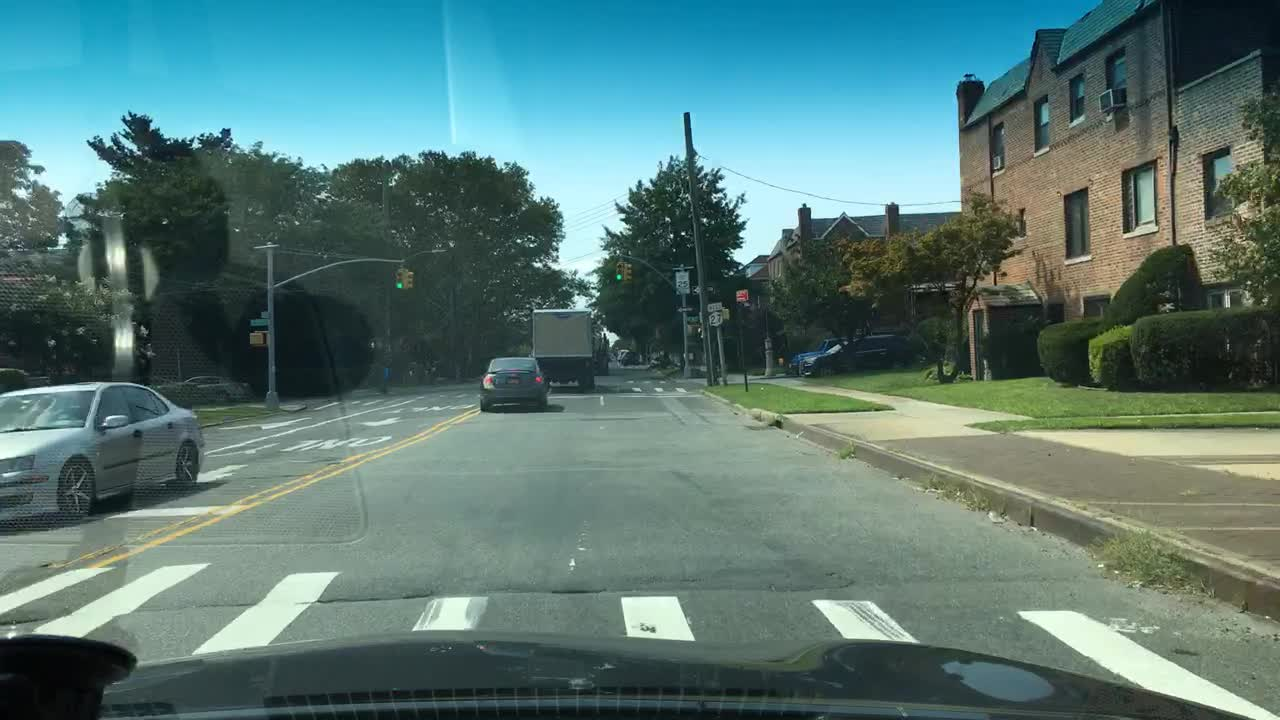car: (0, 380, 203, 528), (800, 335, 916, 378), (478, 354, 548, 415), (787, 334, 844, 376), (179, 373, 253, 405), (621, 352, 639, 366), (617, 348, 628, 363)
traffic light: (404, 267, 414, 289), (624, 259, 633, 281), (250, 332, 265, 345), (395, 268, 403, 289), (616, 261, 624, 280)
traffic sign: (675, 271, 689, 293), (689, 286, 714, 295), (708, 312, 721, 327), (734, 288, 748, 300), (674, 303, 695, 310), (251, 319, 267, 327), (685, 315, 701, 323), (707, 303, 722, 310), (259, 311, 269, 319)
truck: (529, 307, 597, 389), (595, 330, 610, 378)
